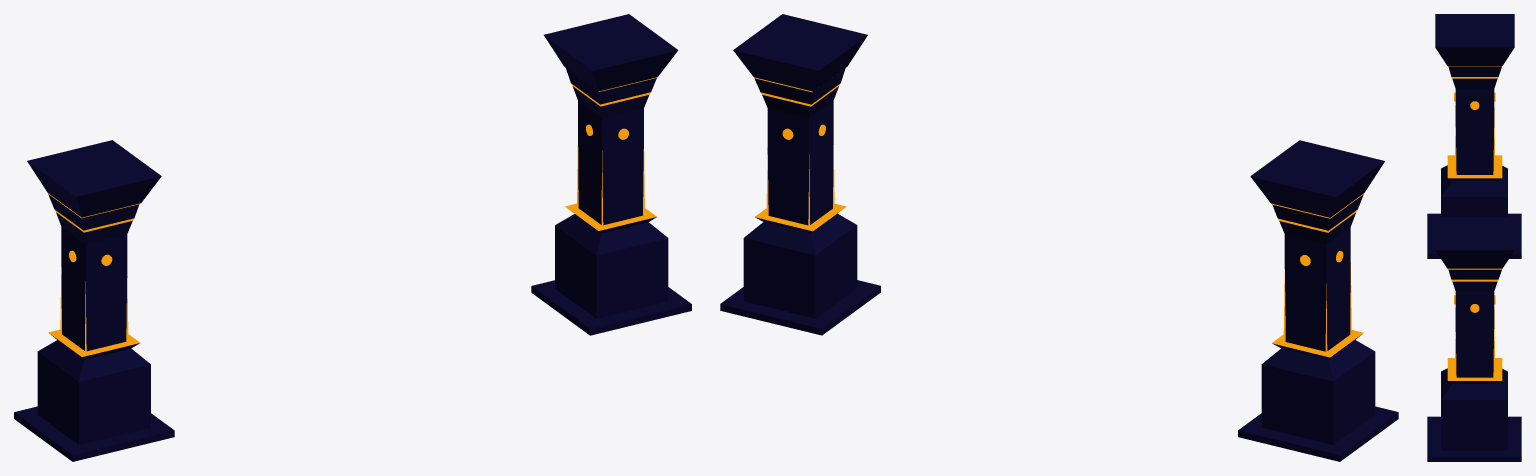
The model's file is projects_towers.glb.
3 views of the same model, side by side, from view 1: azimuth 30°, elevation 25°; view 2: azimuth 150°, elevation 25°; view 3: azimuth 270°, elevation 25° (orthographic). The views are drawn at different scales.
Visible parts, largest first — view 1: Plane.001; view 2: Plane.001; view 3: Plane.001.
Part boxes in pixels (x1=…): Plane.001: x1=14, y1=14, x2=691, y2=461; Plane.001: x1=720, y1=14, x2=1398, y2=461; Plane.001: x1=1427, y1=14, x2=1521, y2=461.
Size of the model in its own units: 1.32 by 0.526 by 0.2161.
